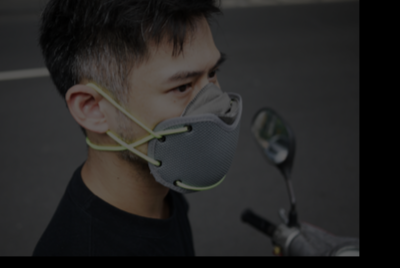with_mask: (111, 52, 244, 195)
